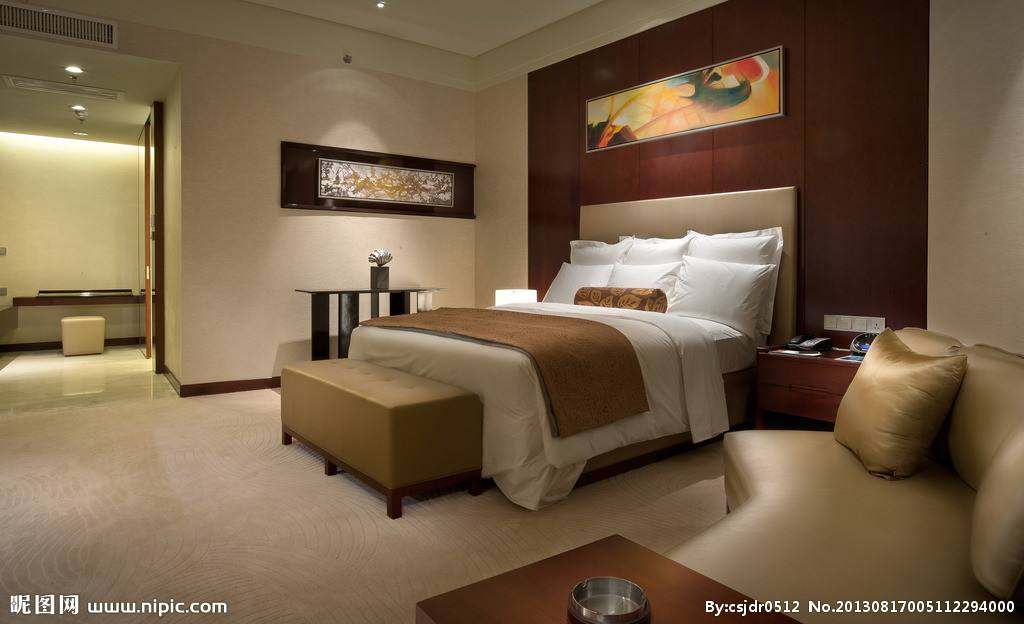床: (345, 293, 742, 498)
枕头: (548, 234, 777, 330), (832, 322, 959, 486)
灯: (59, 61, 85, 80), (65, 101, 89, 120)
